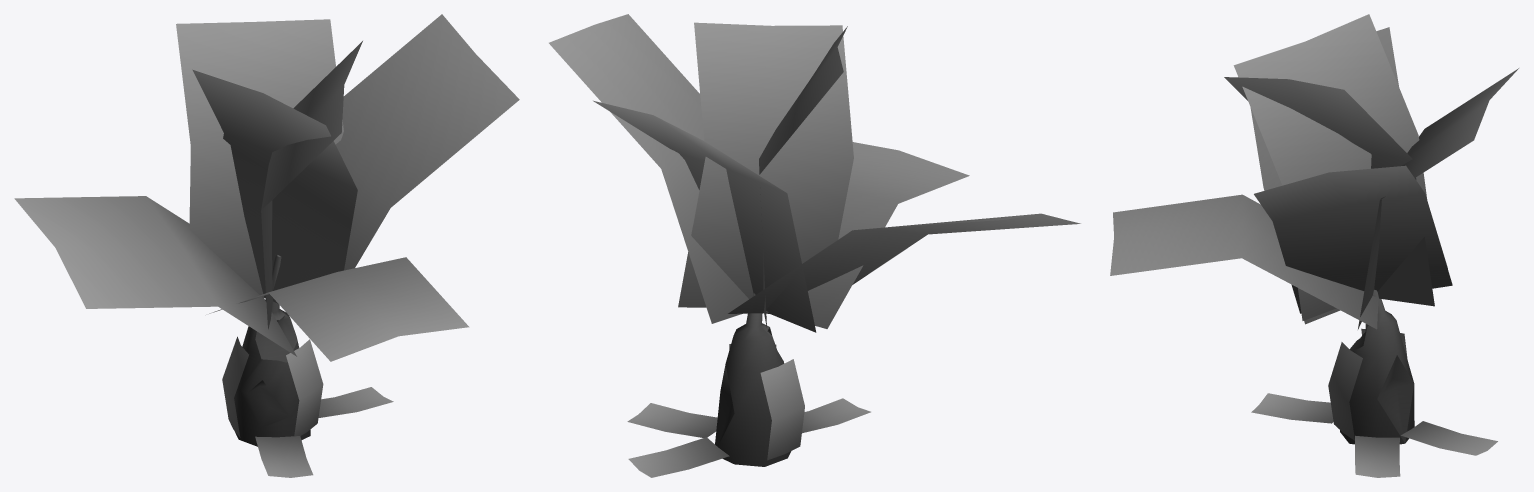
Rendered from RootDead_MESH_01.fbx.
3 views of the same model, side by side, from view 1: azimuth 30°, elevation 25°; view 2: azimuth 150°, elevation 25°; view 3: azimuth 270°, elevation 25° (orthographic). The views are drawn at different scales.
Visible parts, largest first — view 1: RootDead_MESH_01; view 2: RootDead_MESH_01; view 3: RootDead_MESH_01.
Boxes of the visible parts, box(x1,y1,x2,y2) form: RootDead_MESH_01: box(14, 14, 519, 477); RootDead_MESH_01: box(549, 14, 1080, 477); RootDead_MESH_01: box(1110, 14, 1518, 477).
Size of the model in its own units: 98.13 by 82.62 by 81.18.
